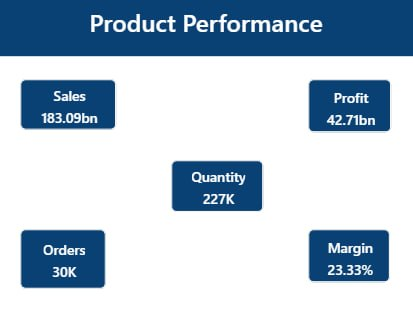

This screenshot's page, from the dashboard's own definition file:
{"tool":"powerbi","page":{"name":"Product Tooltip","canvas":[320,240],"ordinal":3},"visuals":[{"type":"cardVisual","fields":{"Data":["Dim_Customers.Total Sales"]},"box":[0,44.3,108.2,73.2],"z":0},{"type":"cardVisual","fields":{"Data":["Dim_Customers.Total Profit"]},"box":[221.8,44.5,98.2,75.5],"z":1000},{"type":"cardVisual","fields":{"Data":["Dim_Customers.Profit Margin %"]},"box":[221.8,160,97.9,75.3],"z":2000},{"type":"cardVisual","fields":{"Data":["Dim_Customers.Total Orders"]},"box":[0,160,100.9,80],"z":3000},{"type":"cardVisual","fields":{"Data":["Dim_Customers.Total Quantity"]},"box":[116.4,107.3,105.5,74.5],"z":4000},{"type":"textbox","box":[0,0,320,44.2],"z":5000}]}

Visuals, with their boxes in screenshot pixels (x1, y1, x2, y2), scaled from the page's 320x240 canvas onto the 413x309 screenshot:
cardVisual - Dim_Customers.Total Sales: [0, 57, 140, 151]
cardVisual - Dim_Customers.Total Profit: [286, 57, 412, 154]
cardVisual - Dim_Customers.Profit Margin %: [286, 206, 412, 303]
cardVisual - Dim_Customers.Total Orders: [0, 206, 130, 308]
cardVisual - Dim_Customers.Total Quantity: [150, 138, 286, 234]
textbox: [0, 0, 412, 57]
